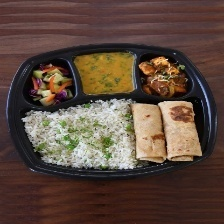sabzi: (138, 53, 193, 96)
